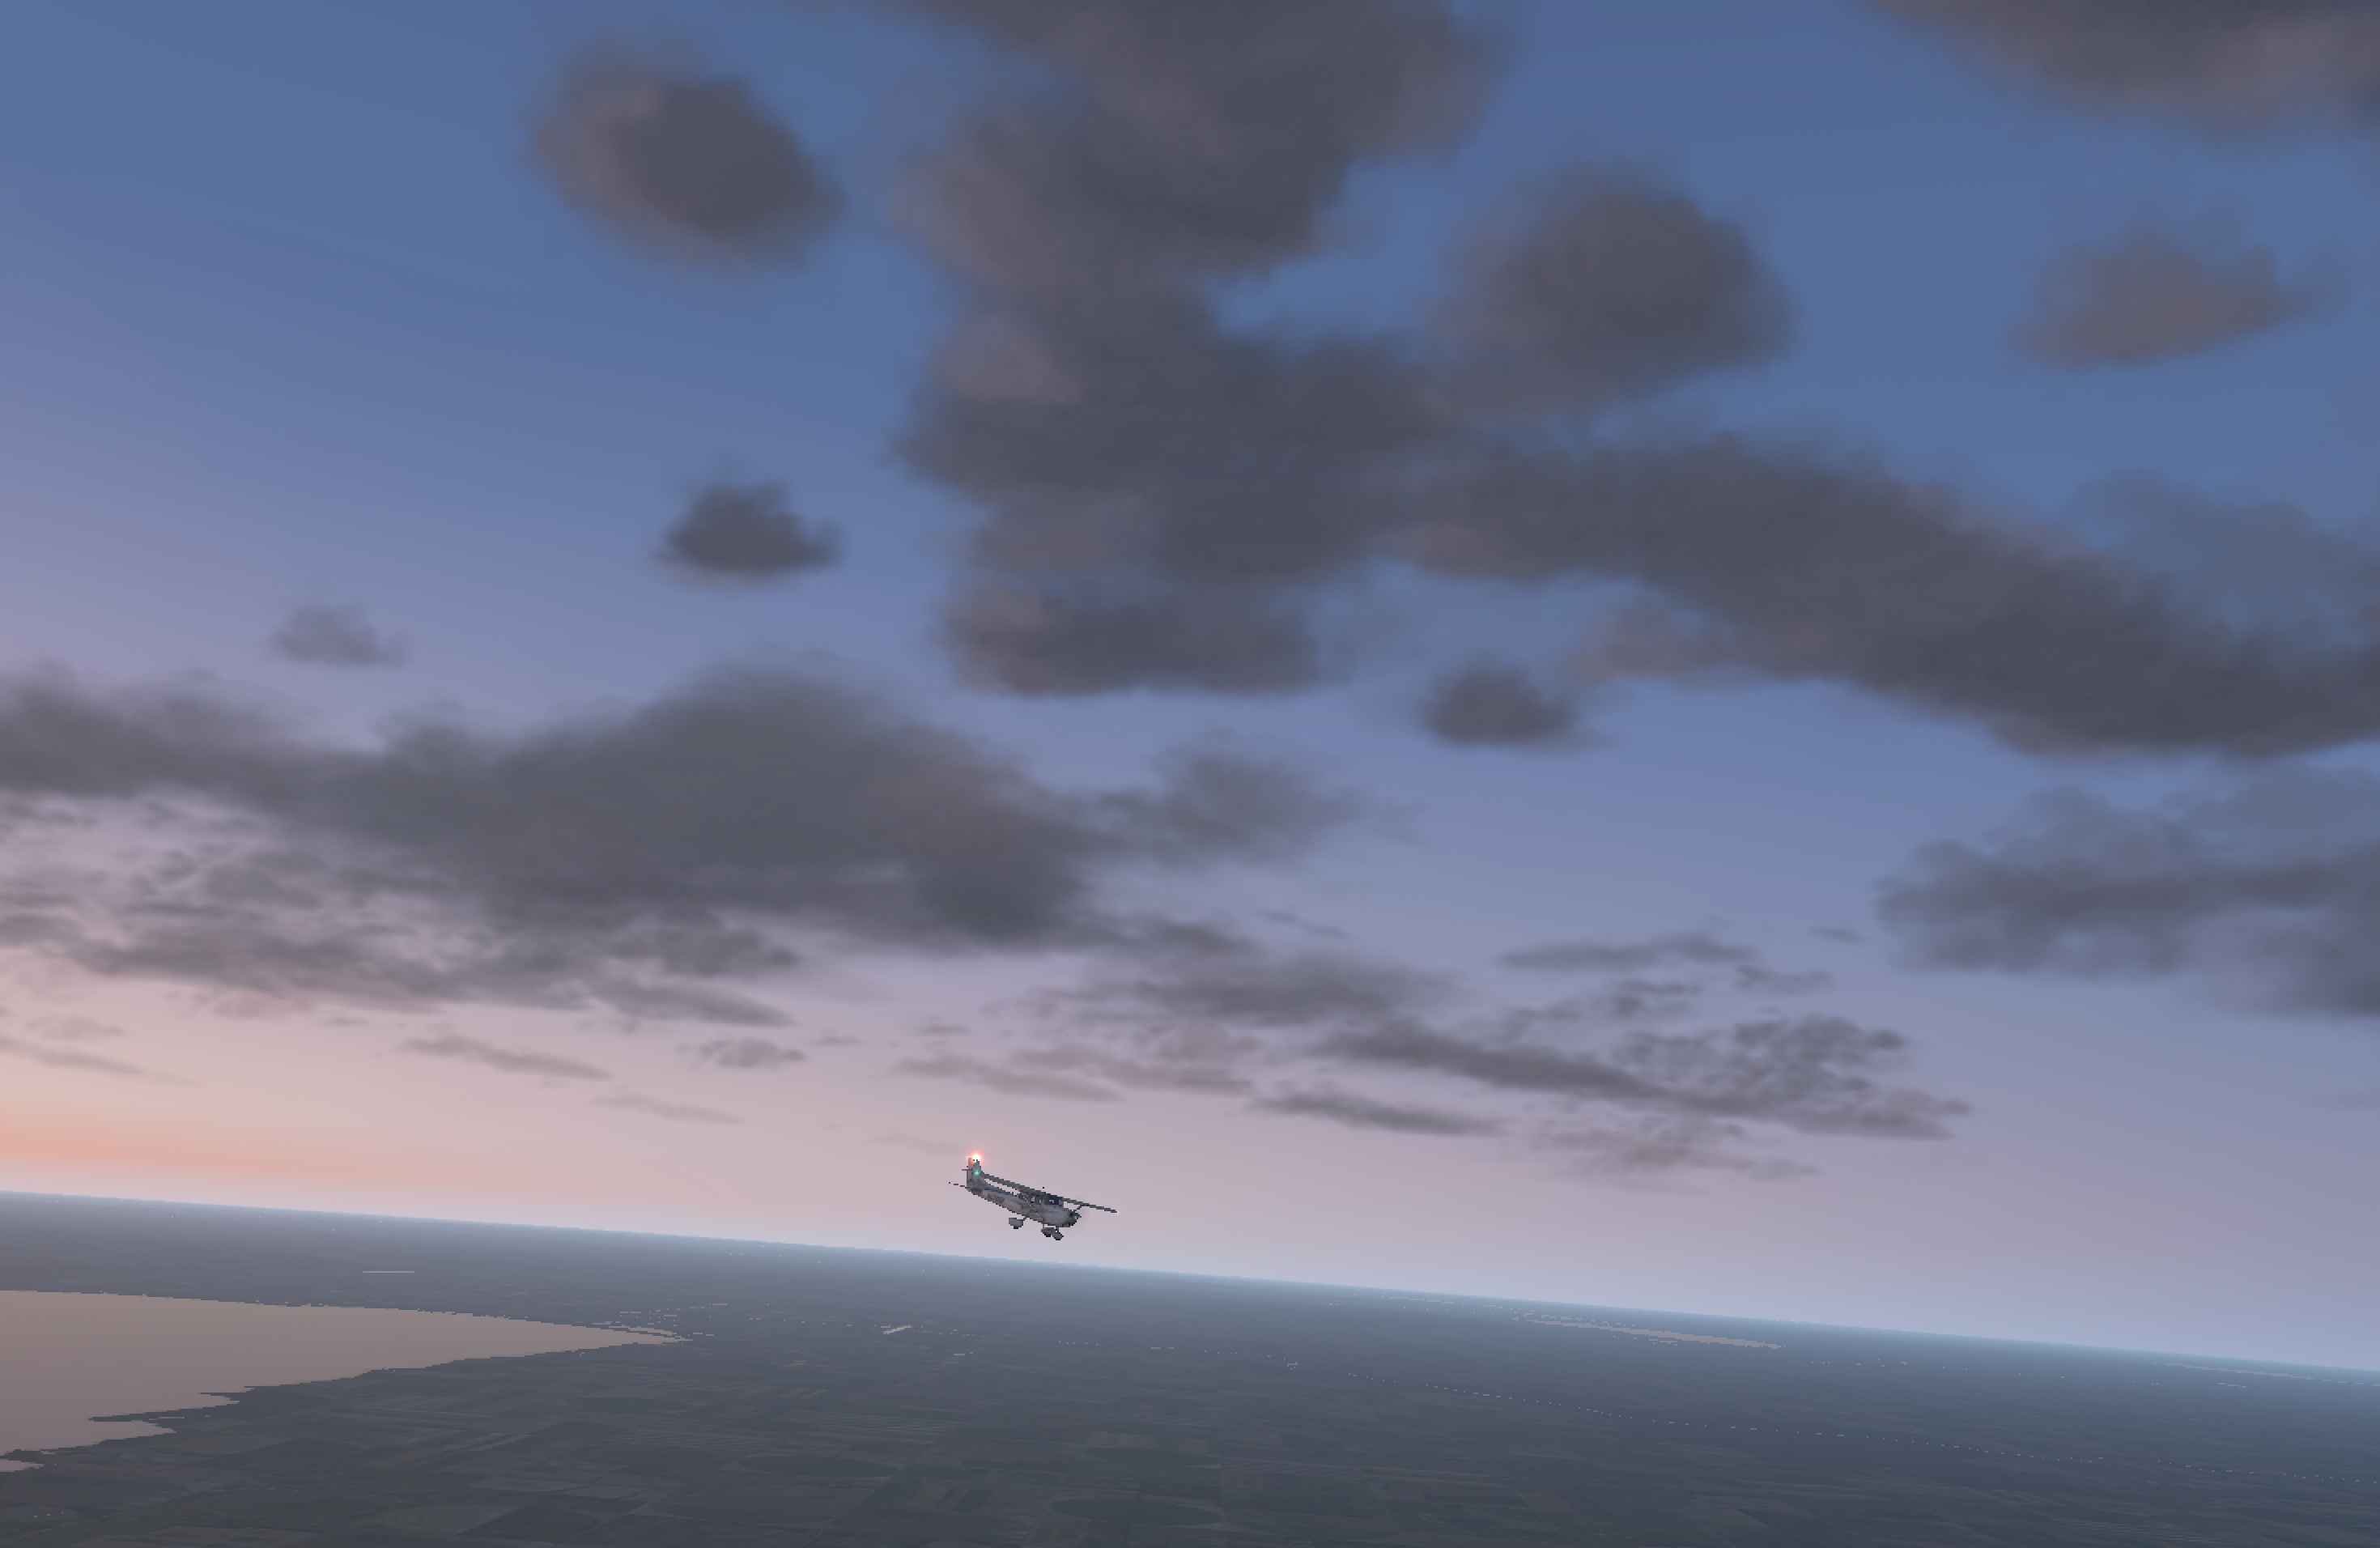aircraft: (964, 1177, 1122, 1236)
